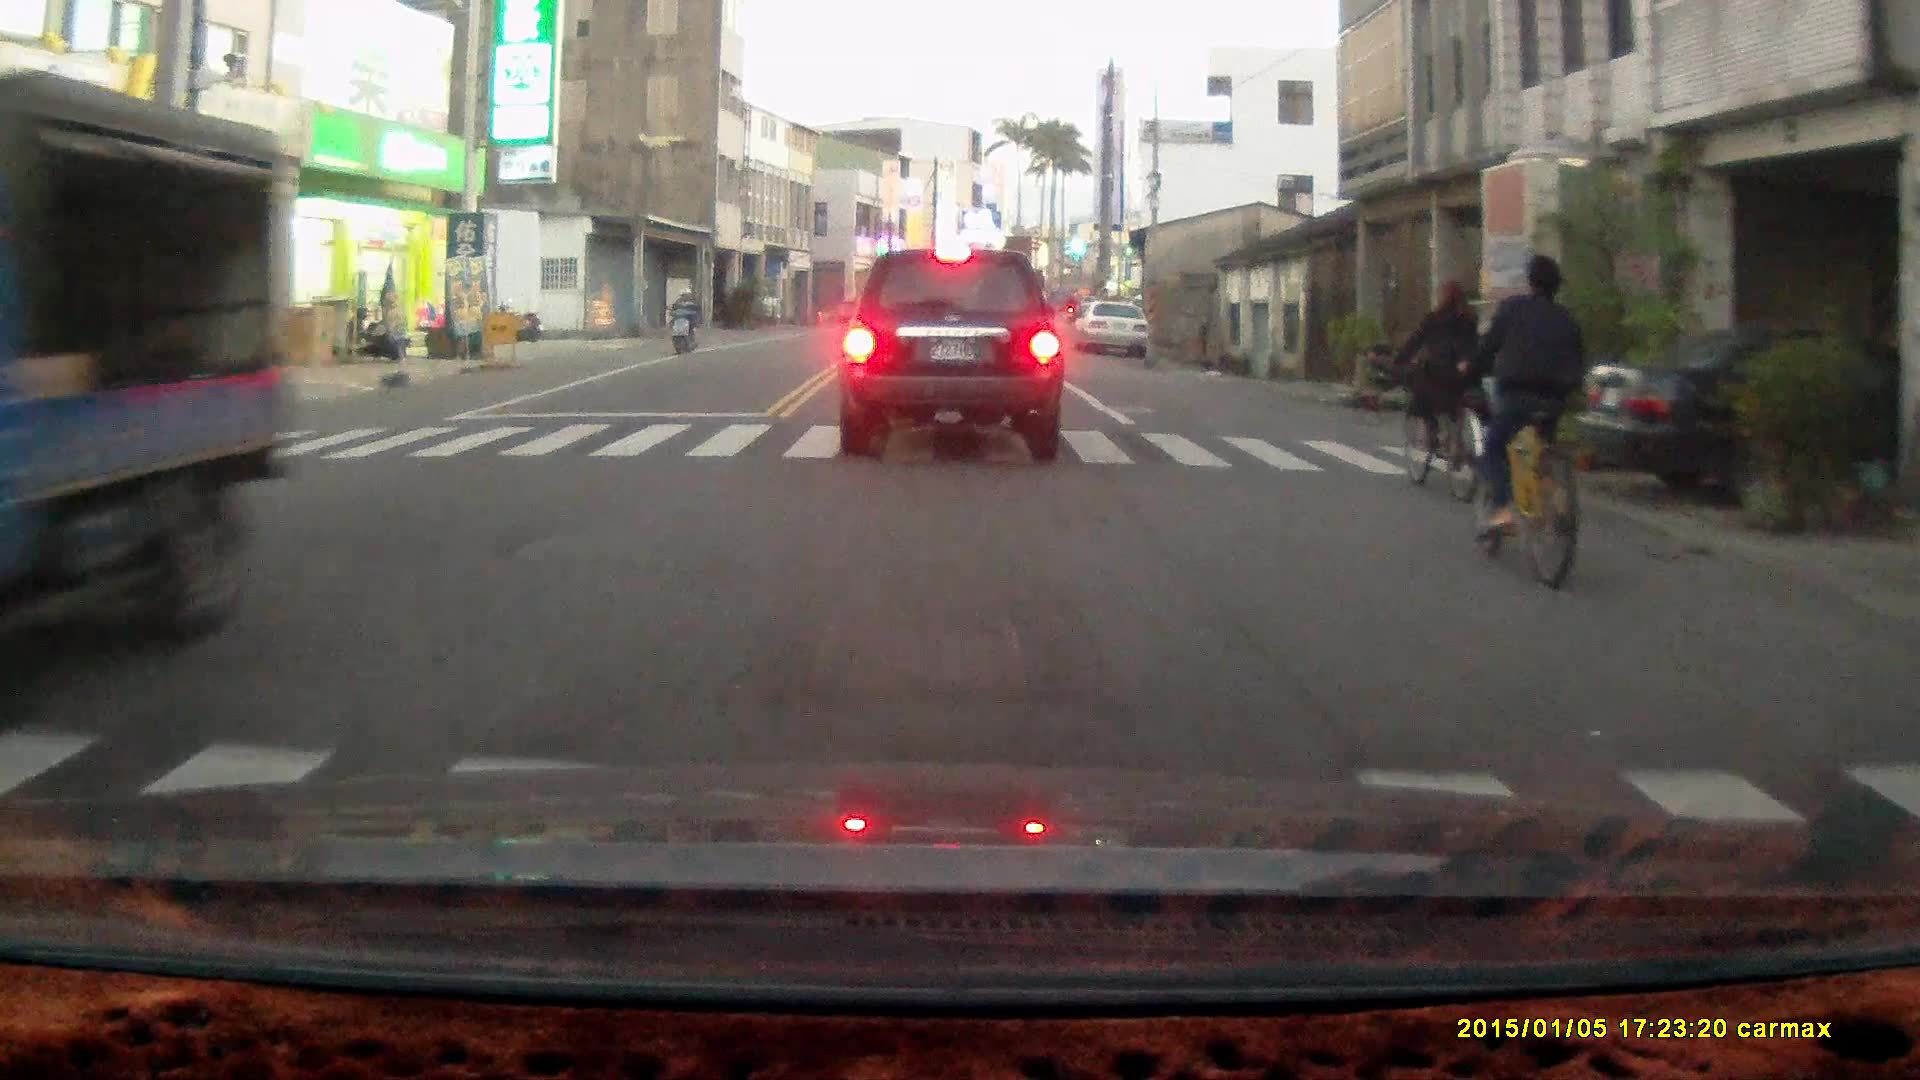rider: (1450, 252, 1583, 591), (1391, 278, 1485, 506), (666, 282, 699, 357)
vehicle: (1, 87, 280, 706), (1575, 322, 1920, 511), (833, 246, 1069, 460), (1078, 302, 1153, 361)
